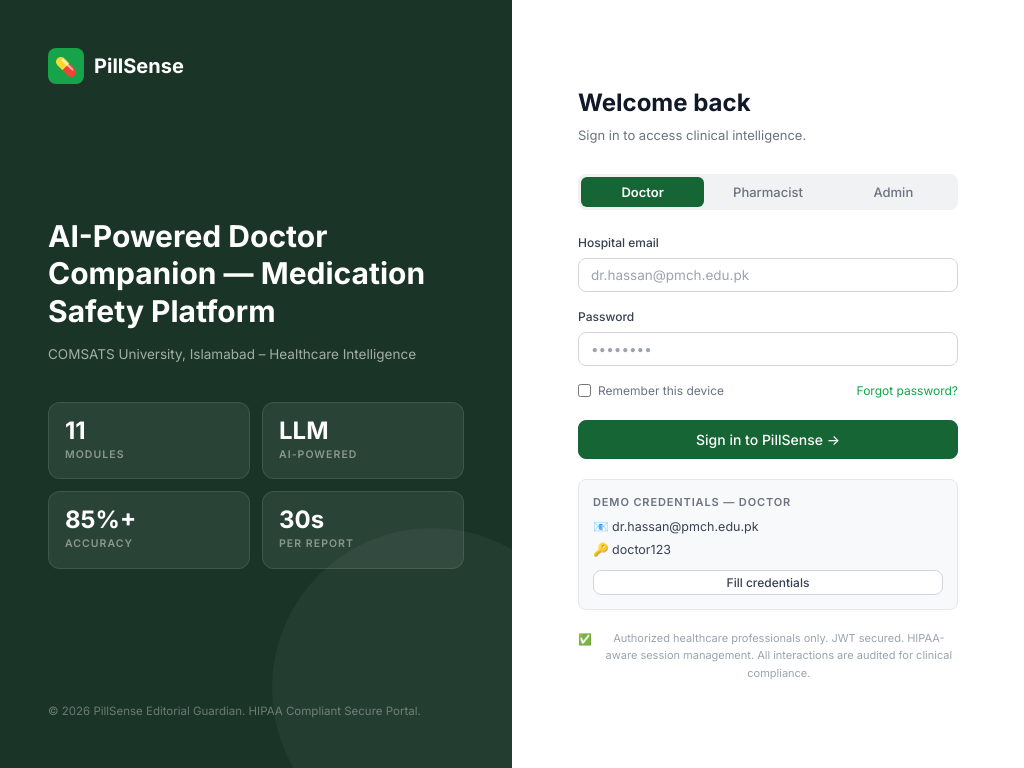
Test: PillSense Automated Test Suite - Lab Final › Authentication Module › TC-001: Should reject login with invalid credentials (Negative Test)
The width and height of the screenshot is (1024, 768).
Step 1. Type "fake@hospital.com" into the field with placeholder "dr.hassan@pmch.edu.pk" → {"x": 768, "y": 275}, box [578, 258, 958, 292]
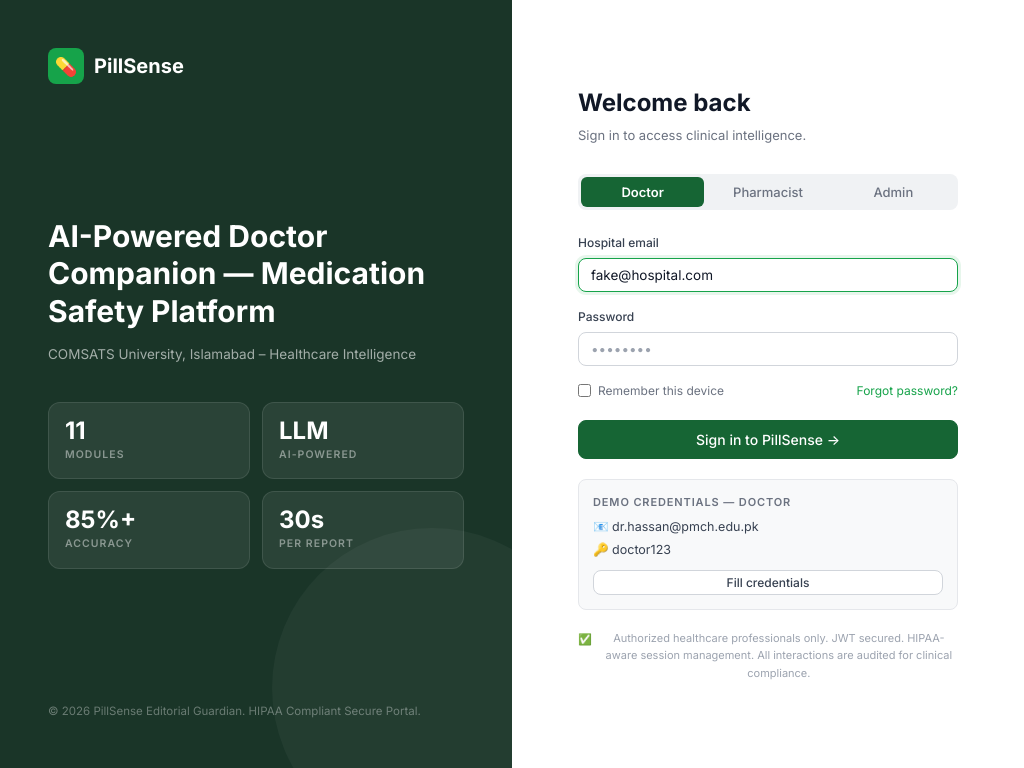
Step 2. Type "wrongpassword" into the password field with placeholder "••••••••" → {"x": 768, "y": 349}, box [578, 332, 958, 366]
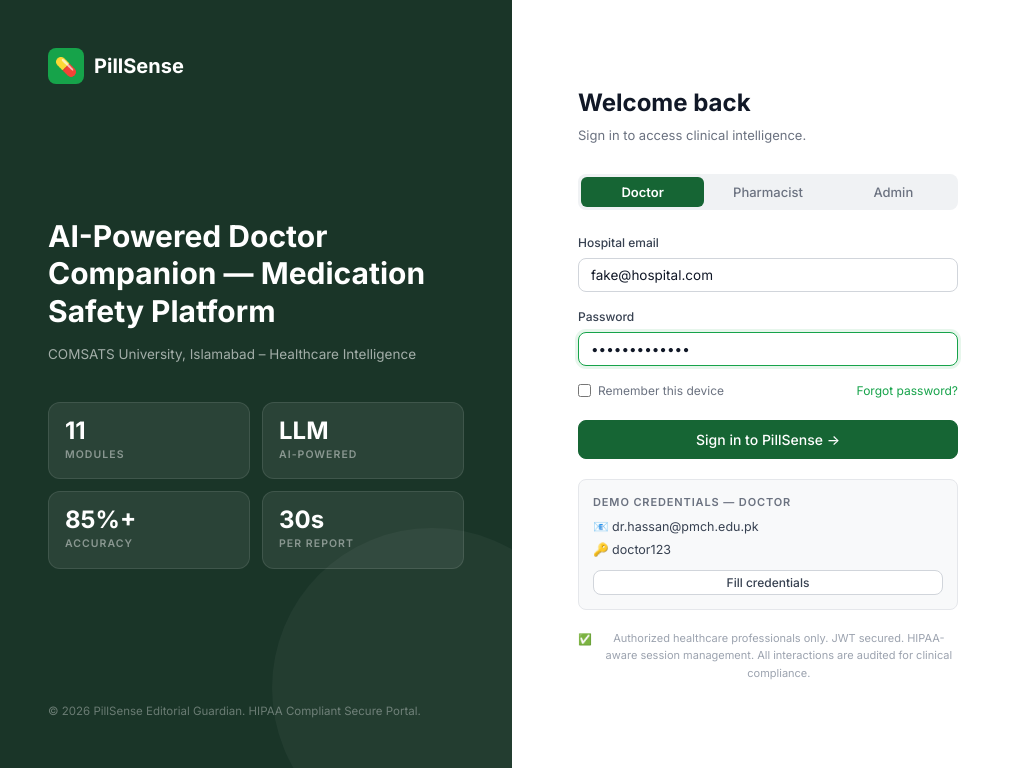
Step 3. Click the button "Sign in to PillSense →" → {"x": 768, "y": 440}, box [578, 420, 958, 459]
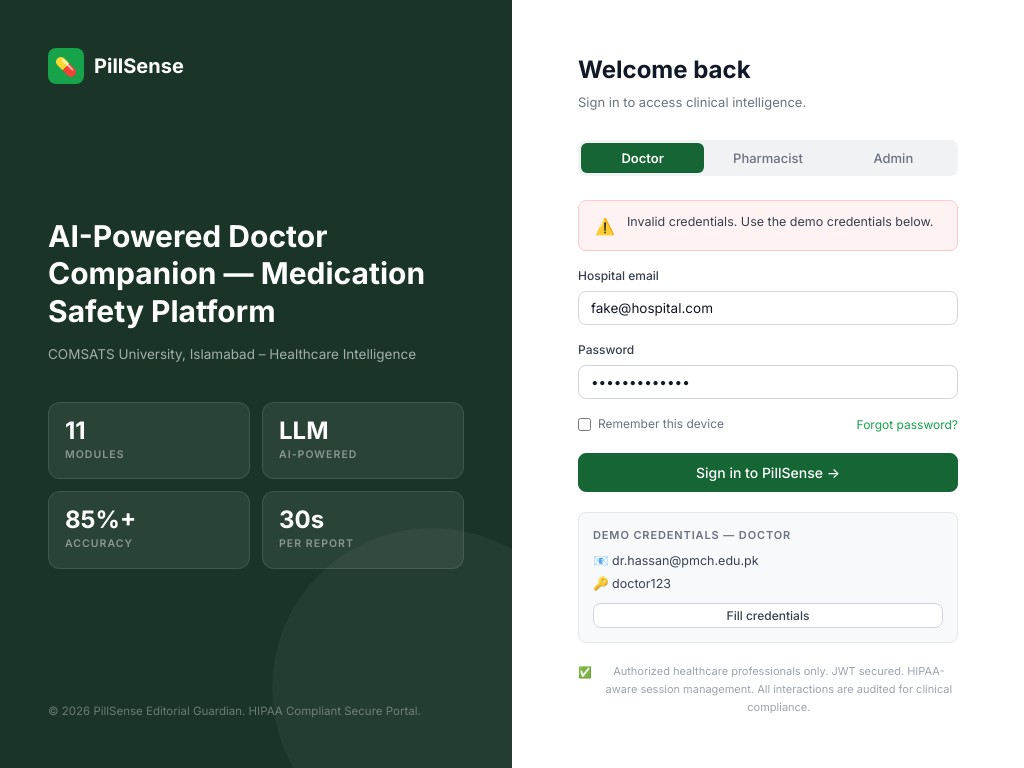
Check: the text "Invalid credentials." is shown, box [627, 214, 933, 229]
